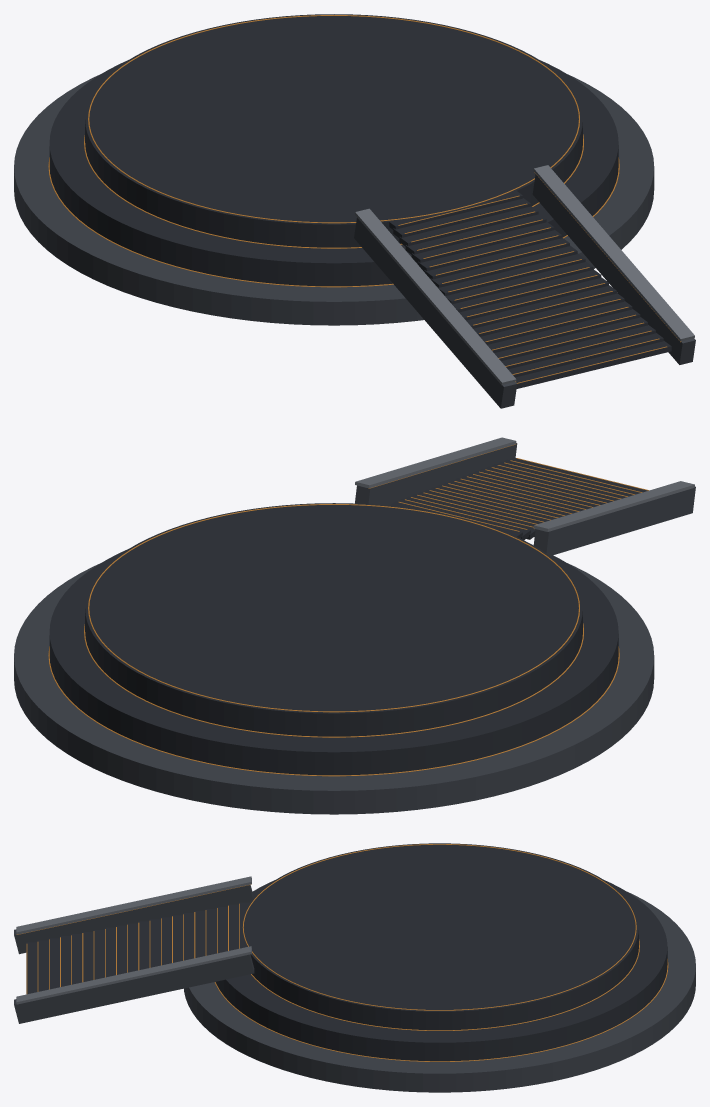
File: 02_architecture_dais_stairs.glb
3 views of the same model, one above another, from view 1: azimuth 30°, elevation 25°; view 2: azimuth 150°, elevation 25°; view 3: azimuth 270°, elevation 25° (orthographic). The views are drawn at different scales.
Visible parts, largest first — view 1: Dais_Stairs_MAT_Obsidian_Floor_Wet_PBR, Dais_Stairs_MAT_Obsidian_Structure_PBR, Dais_Stairs_MAT_Amber_Energy_Restrained, Dais_Stairs_MAT_Titanium_Machined; view 2: Dais_Stairs_MAT_Obsidian_Floor_Wet_PBR, Dais_Stairs_MAT_Obsidian_Structure_PBR, Dais_Stairs_MAT_Amber_Energy_Restrained, Dais_Stairs_MAT_Titanium_Machined; view 3: Dais_Stairs_MAT_Obsidian_Floor_Wet_PBR, Dais_Stairs_MAT_Obsidian_Structure_PBR, Dais_Stairs_MAT_Amber_Energy_Restrained, Dais_Stairs_MAT_Titanium_Machined.
Boxes of the visible parts, x1,y1,x2,y2 form: Dais_Stairs_MAT_Obsidian_Floor_Wet_PBR: (49,14,671,388); Dais_Stairs_MAT_Obsidian_Structure_PBR: (14,74,695,408); Dais_Stairs_MAT_Amber_Energy_Restrained: (48,15,681,383); Dais_Stairs_MAT_Titanium_Machined: (355,165,694,385); Dais_Stairs_MAT_Obsidian_Floor_Wet_PBR: (49,457,647,775); Dais_Stairs_MAT_Obsidian_Structure_PBR: (14,443,695,814); Dais_Stairs_MAT_Amber_Energy_Restrained: (48,444,648,776); Dais_Stairs_MAT_Titanium_Machined: (355,437,694,531); Dais_Stairs_MAT_Obsidian_Floor_Wet_PBR: (26,843,667,1061); Dais_Stairs_MAT_Obsidian_Structure_PBR: (14,885,695,1092); Dais_Stairs_MAT_Amber_Energy_Restrained: (16,844,668,1061); Dais_Stairs_MAT_Titanium_Machined: (16,876,251,1004).
Size of the model in its own units: 27 by 4.22 by 35.93.
